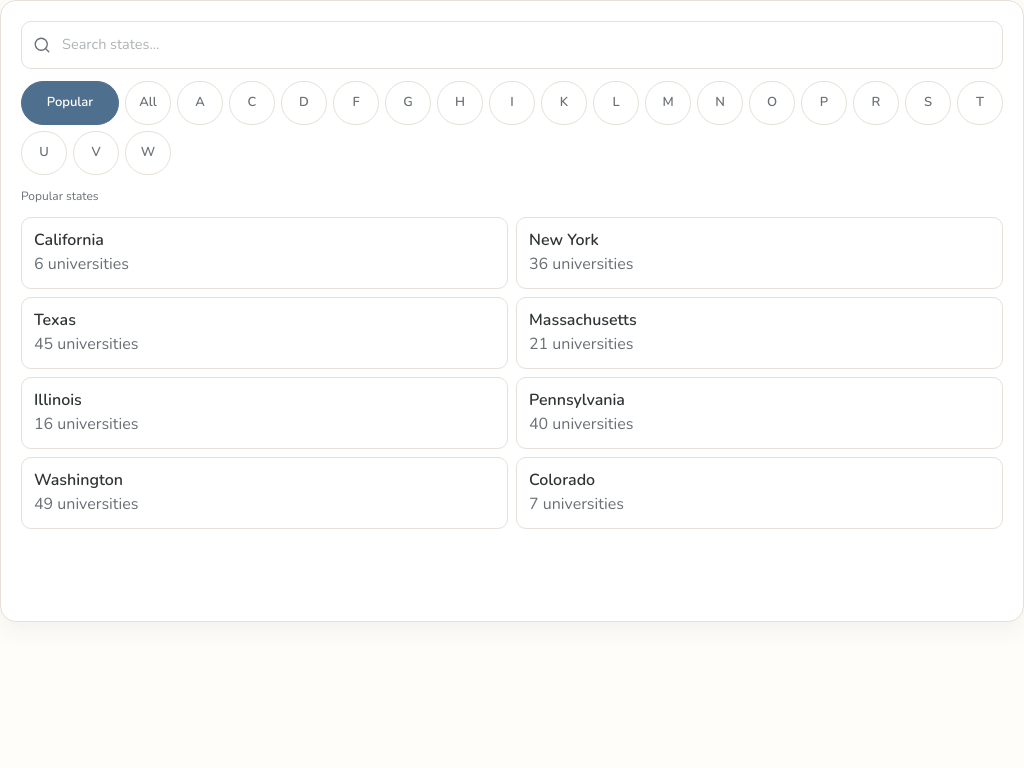
StatePanel › returns to the first page when the filter changes
Click the button "All" at (148, 103), box [125, 81, 171, 125]
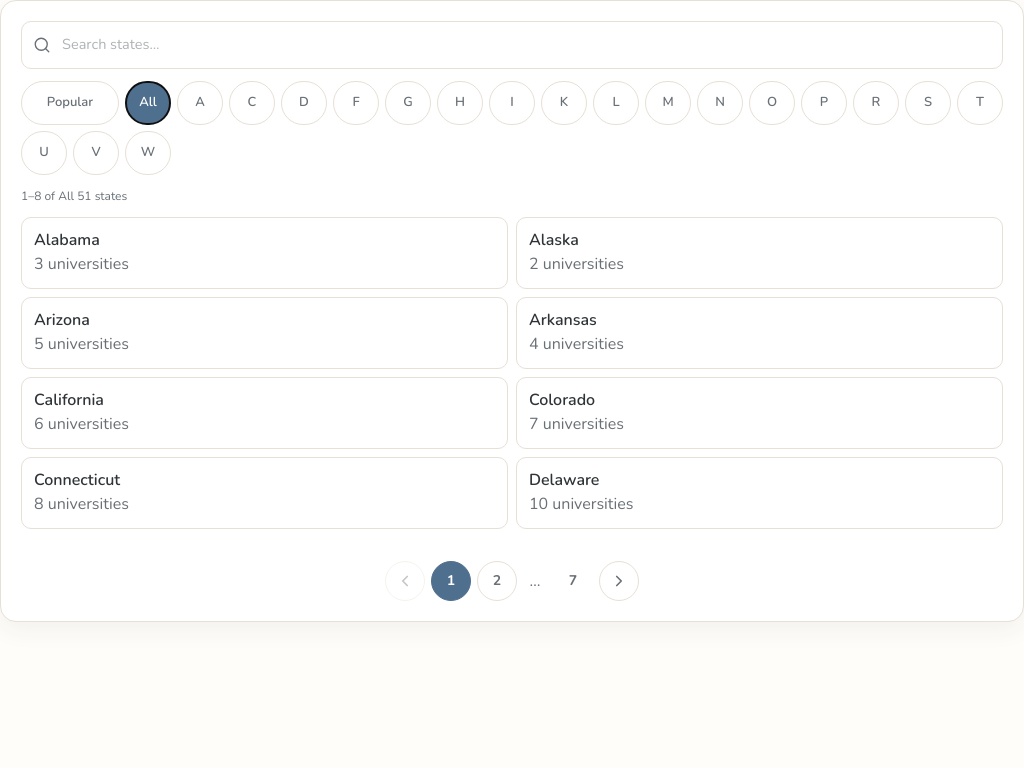
Click the button named "Next page" at (619, 581), box [599, 561, 639, 601]
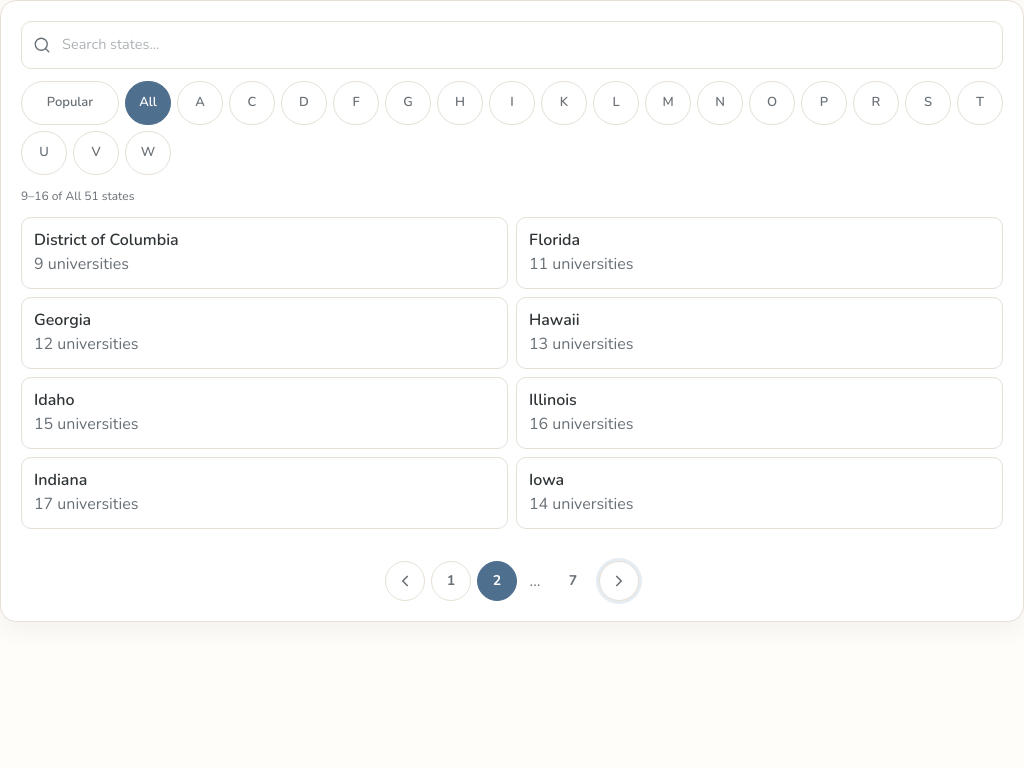
Click the button named "Next page" at (619, 581), box [599, 561, 639, 601]
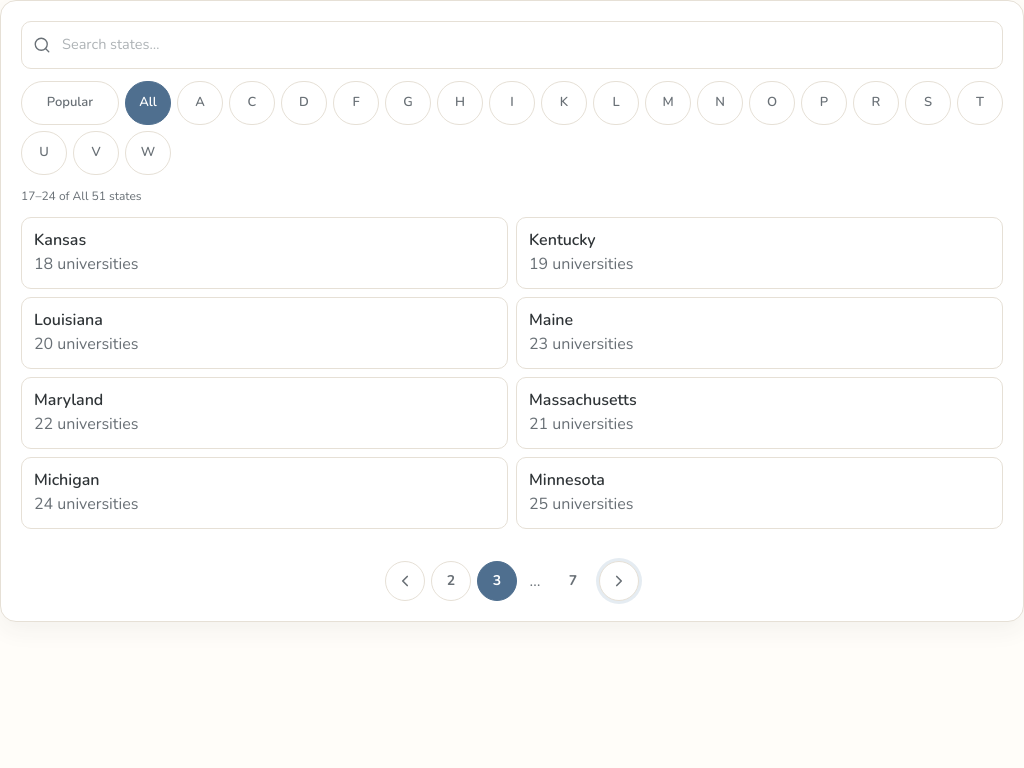
Check: the text "Alabama" is not shown
Click the button "M" at (668, 103), box [645, 81, 691, 125]
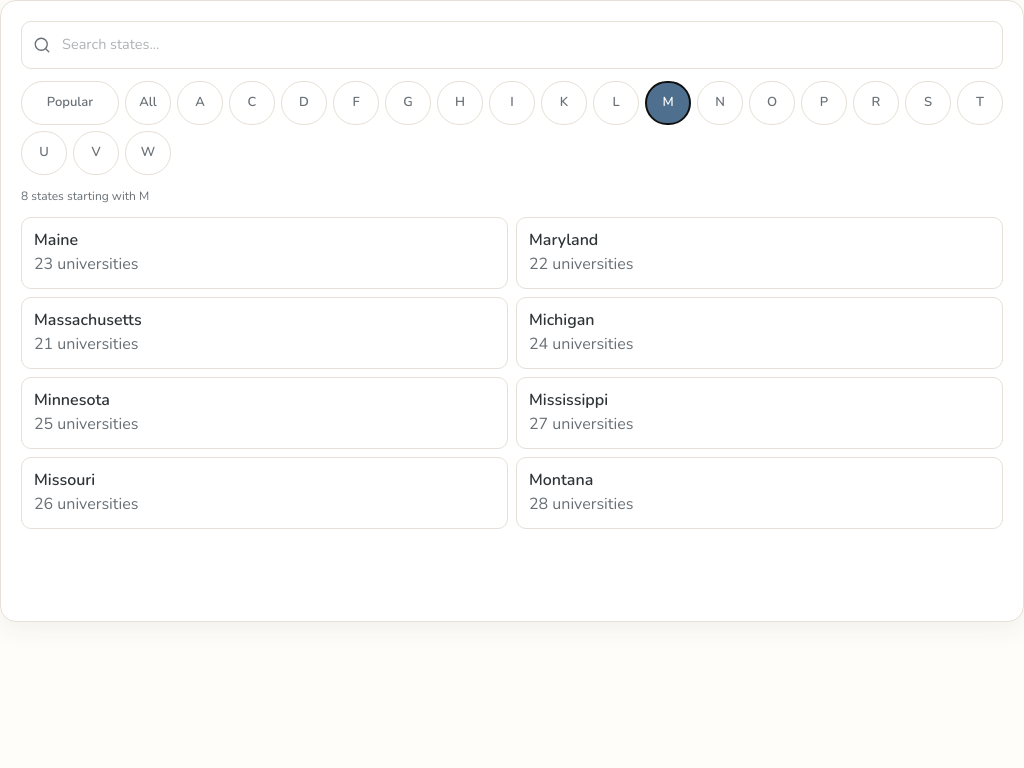
Check: the text "Maine" is shown, box [34, 229, 78, 251]
// …and back to All lands on page one, not the third page it was left on.
Click the button "All" at (148, 103), box [125, 81, 171, 125]
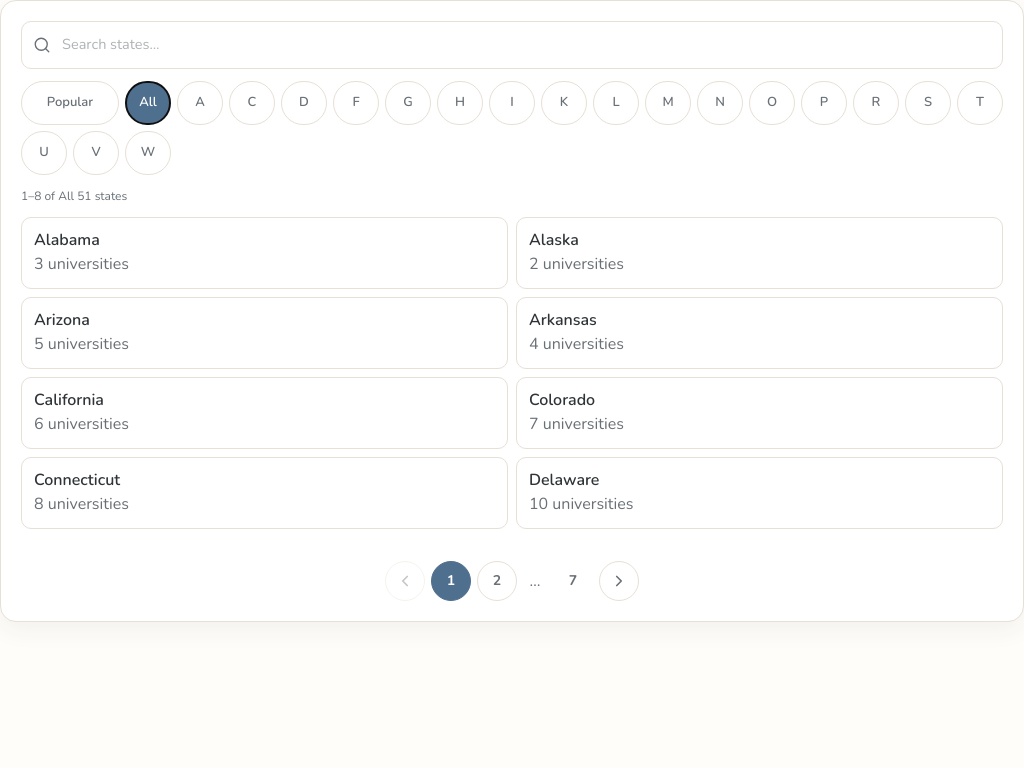
Check: the text "Alabama" is shown, box [34, 229, 100, 251]
